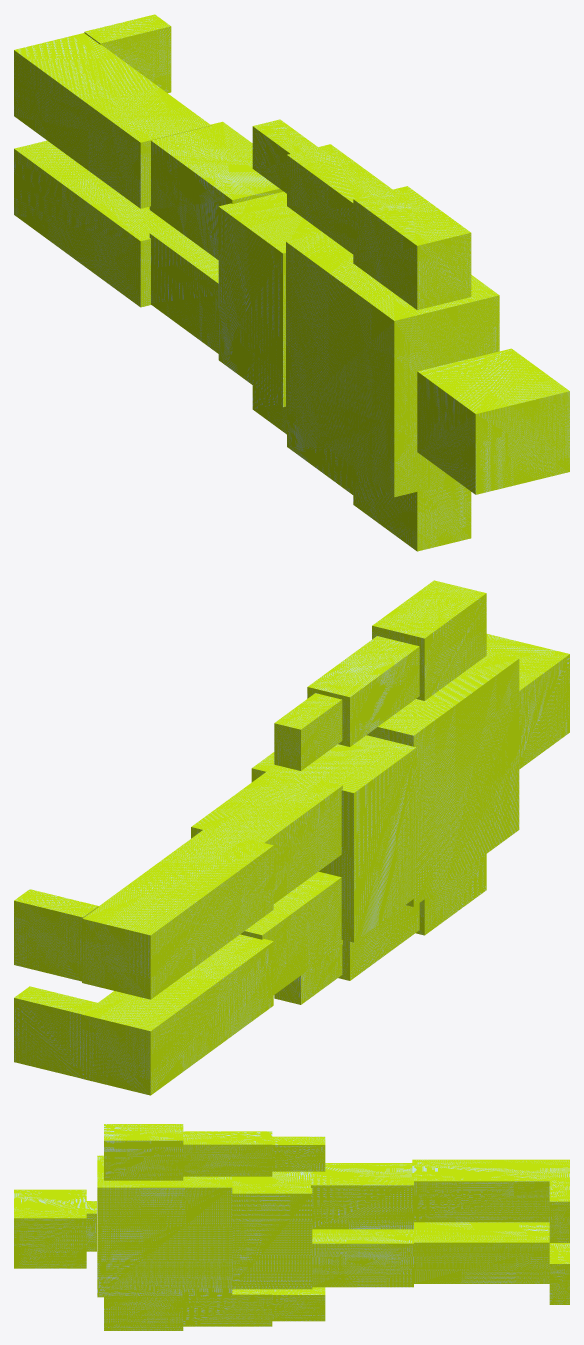
File: UniqueSolutionMaze_robot.dae
The picture shows the model from 3 angles, top to bottom: view 1: azimuth 30°, elevation 25°; view 2: azimuth 150°, elevation 25°; view 3: azimuth 270°, elevation 25°; orthographic projection. The views are drawn at different scales.
Parts seen in each view (by area): view 1: instance_0 (×14); view 2: instance_0 (×15); view 3: instance_0 (×16).
Boxes of the visible parts, bbox=[...] form: instance_0 (×14): bbox=[14, 14, 569, 551]; instance_0 (×15): bbox=[14, 580, 569, 1095]; instance_0 (×16): bbox=[14, 1124, 569, 1330].
Bounding box in the file's own units: 10.07 × 54.39 × 20.54.
